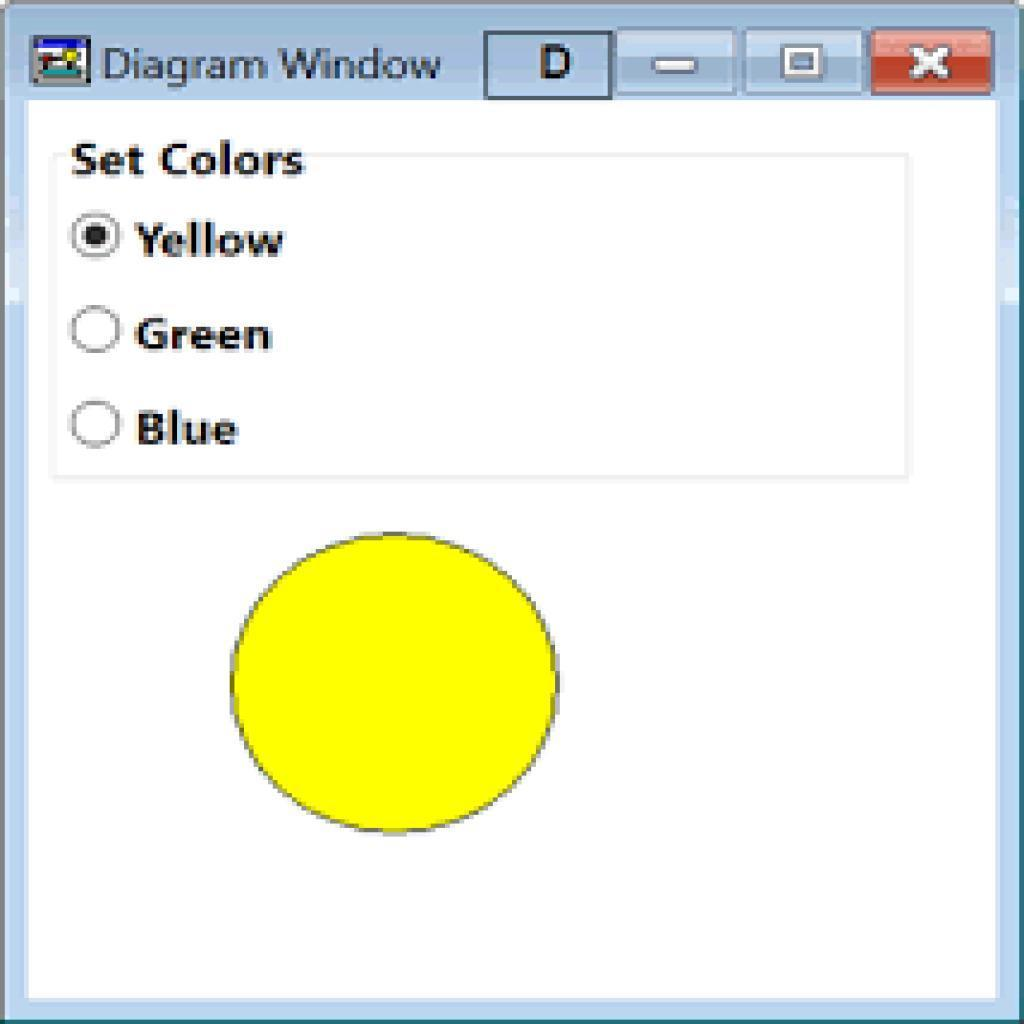radio: (69, 300, 127, 357), (67, 397, 129, 450), (70, 210, 125, 263)
